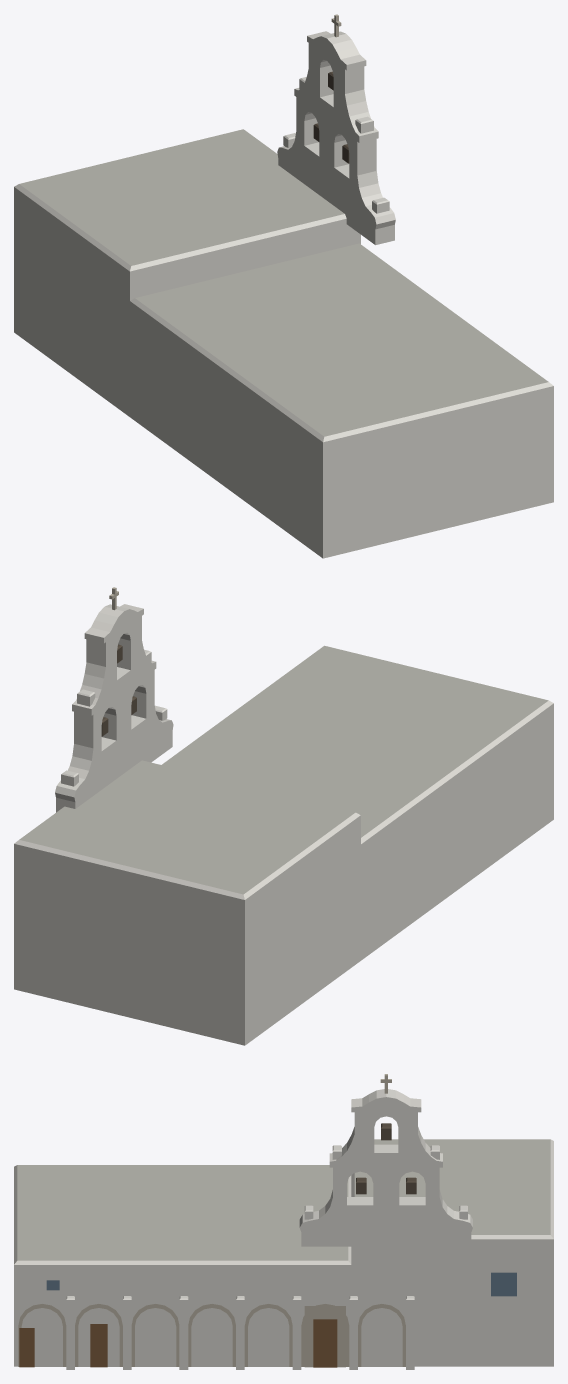
File: sat-mission-san-juan.glb
The picture shows the model from 3 angles, top to bottom: view 1: azimuth 30°, elevation 25°; view 2: azimuth 150°, elevation 25°; view 3: azimuth 270°, elevation 25°; orthographic projection. The views are drawn at different scales.
Parts seen in each view (by area): view 1: Mission San Juan Capistrano; view 2: Mission San Juan Capistrano; view 3: Mission San Juan Capistrano.
Part boxes in pixels (x1,y1,x2,y2): Mission San Juan Capistrano: (14, 14, 553, 558); Mission San Juan Capistrano: (14, 587, 553, 1045); Mission San Juan Capistrano: (14, 1074, 553, 1369).
Bounding box in the file's own units: 11.05 × 14.7 × 24.8.
